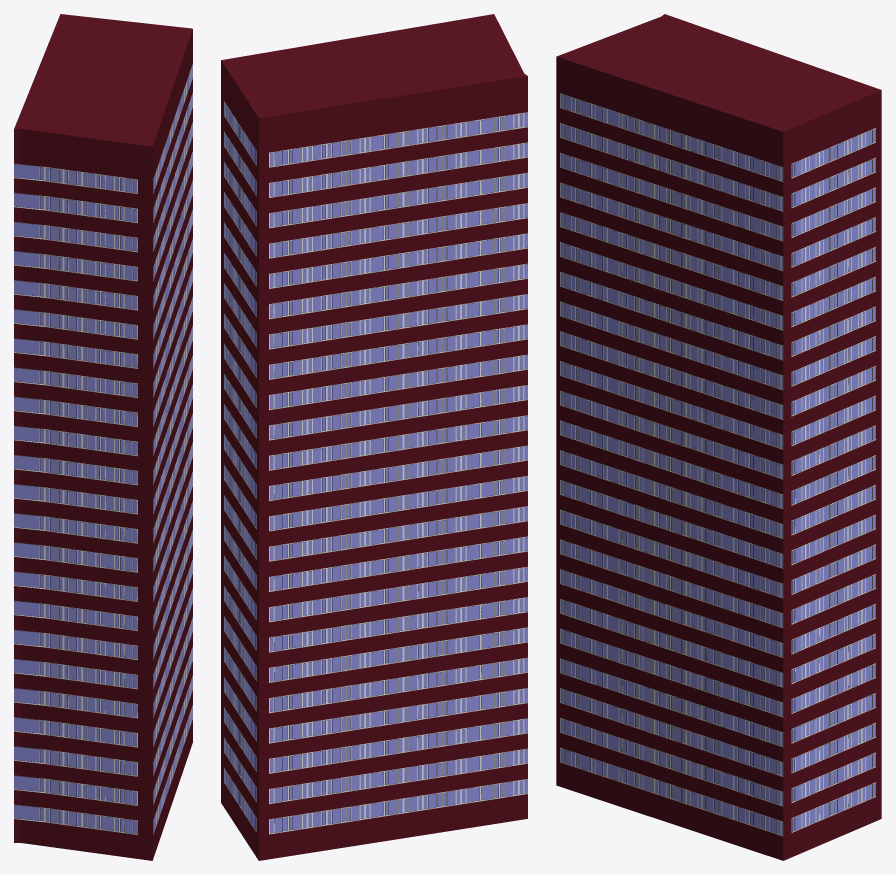
The model's file is TwoBeachfrontAvenue.fbx.
3 views of the same model, side by side, from view 1: azimuth 30°, elevation 25°; view 2: azimuth 150°, elevation 25°; view 3: azimuth 270°, elevation 25° (orthographic). The views are drawn at different scales.
Visible parts, largest first — view 1: 2BeachfrontAvenue; view 2: 2BeachfrontAvenue; view 3: 2BeachfrontAvenue.
Boxes of the visible parts, <box> form: 2BeachfrontAvenue: <box>14,14,192,860</box>; 2BeachfrontAvenue: <box>221,14,527,860</box>; 2BeachfrontAvenue: <box>556,14,881,860</box>.
Bounding box in the file's own units: 3473 × 10000 × 4041.
